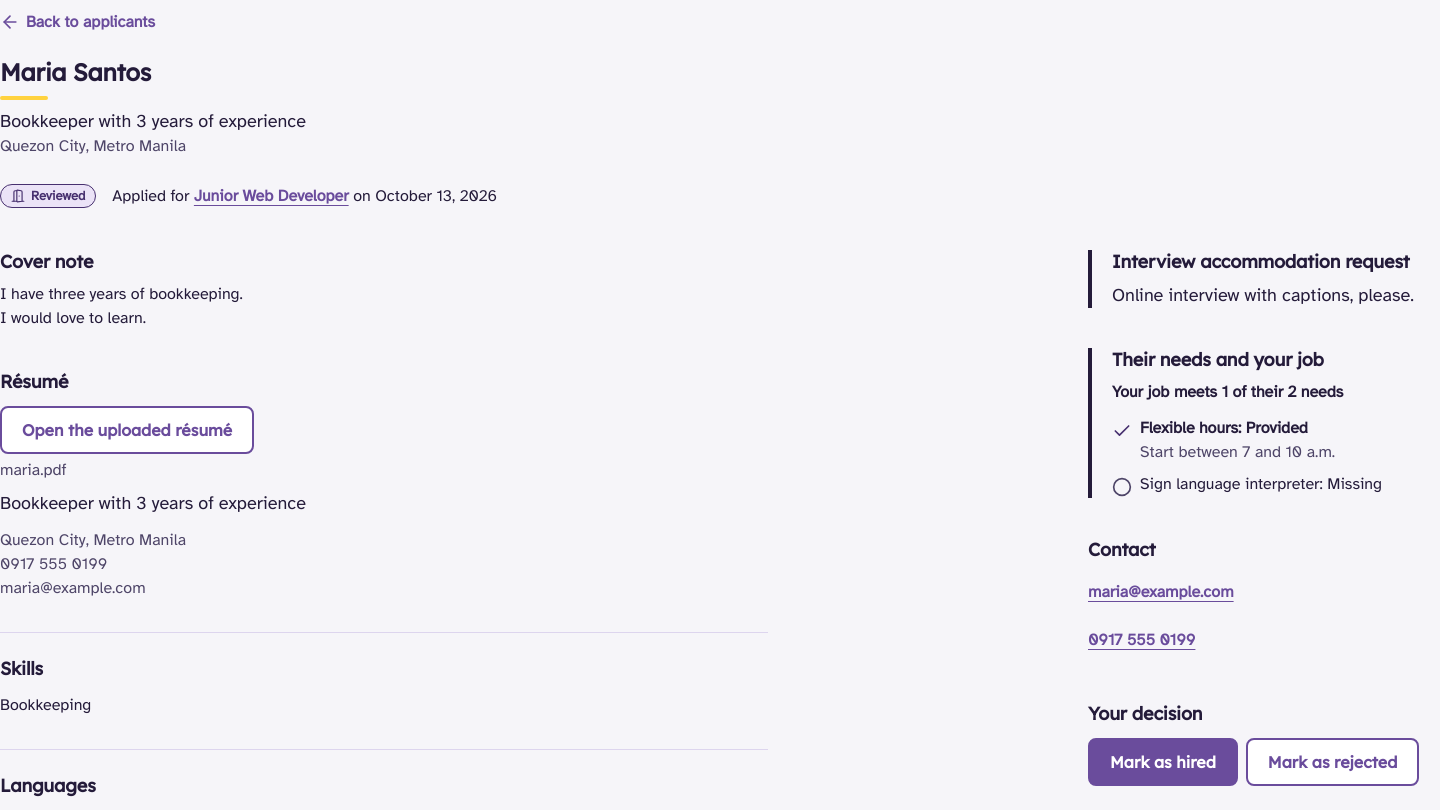
ApplicantPage › explains a decision that lost to a withdrawal, then shows it and keeps focus
Click the button "Mark as hired" at (1163, 762), box [1088,738,1238,786]
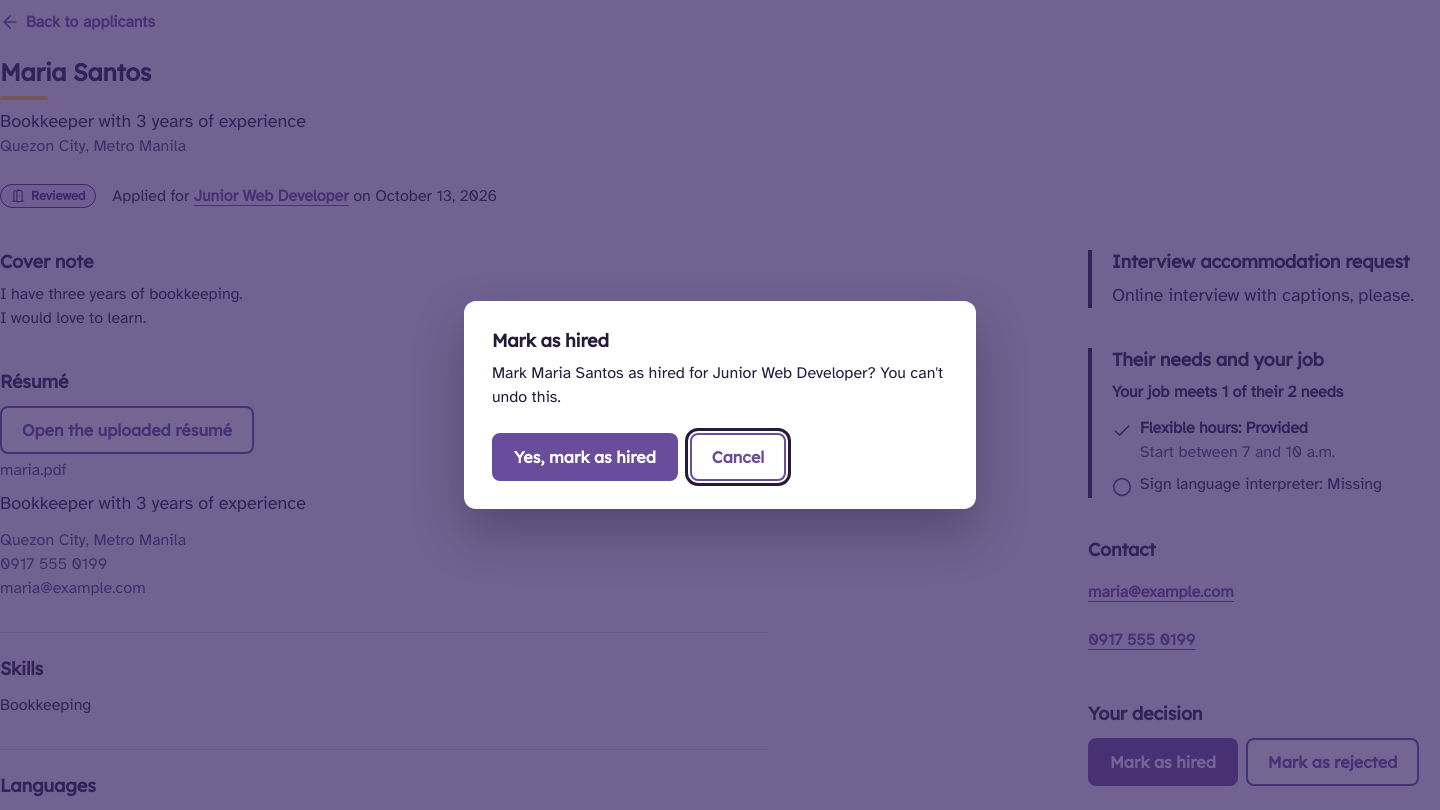
Click the button "Yes, mark as hired" at (585, 457), box [492,433,678,481]
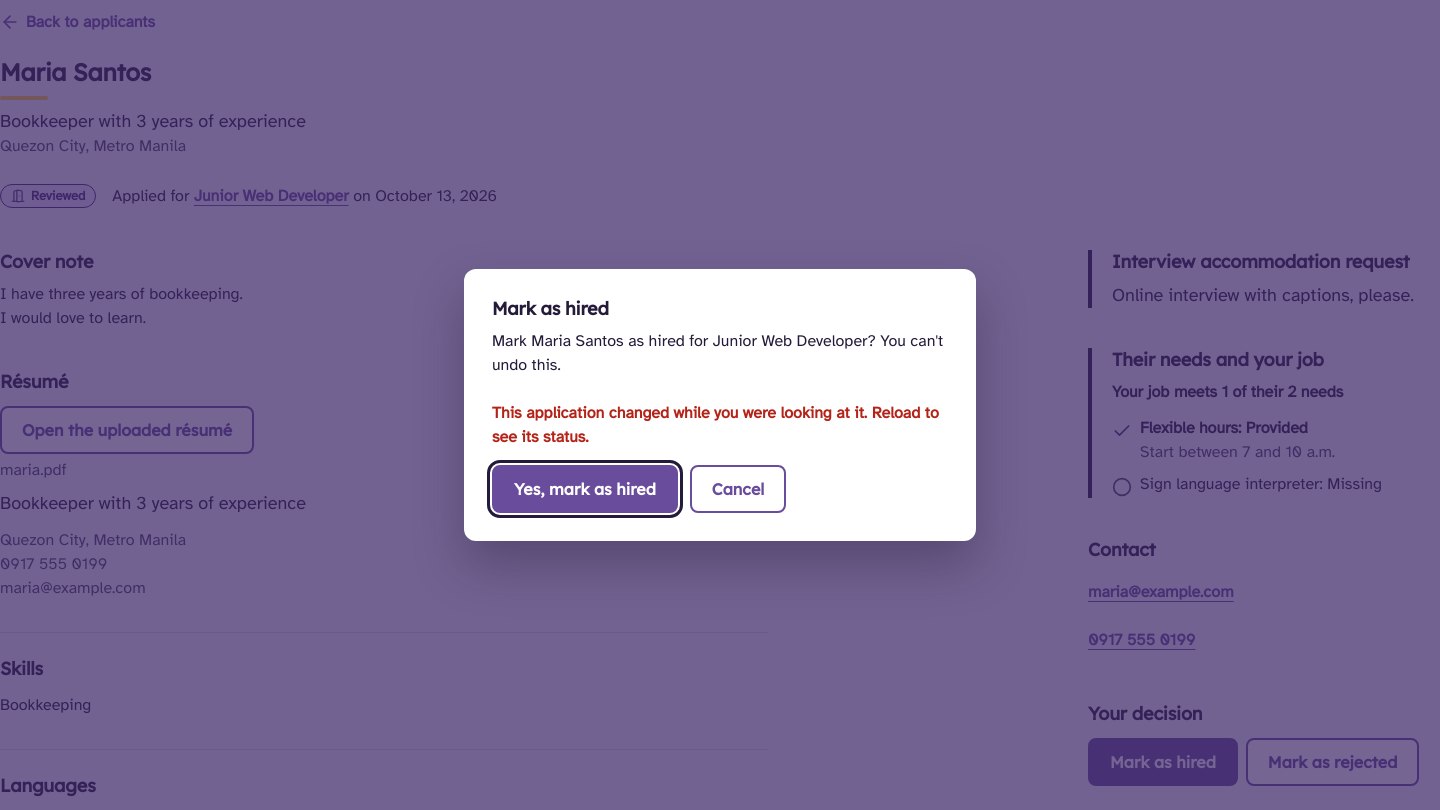
Expected: the message shows "This application changed while you were looking at it.", [492,403,939,447]
Click the button "Cancel" at (738, 489), box [690,465,786,513]
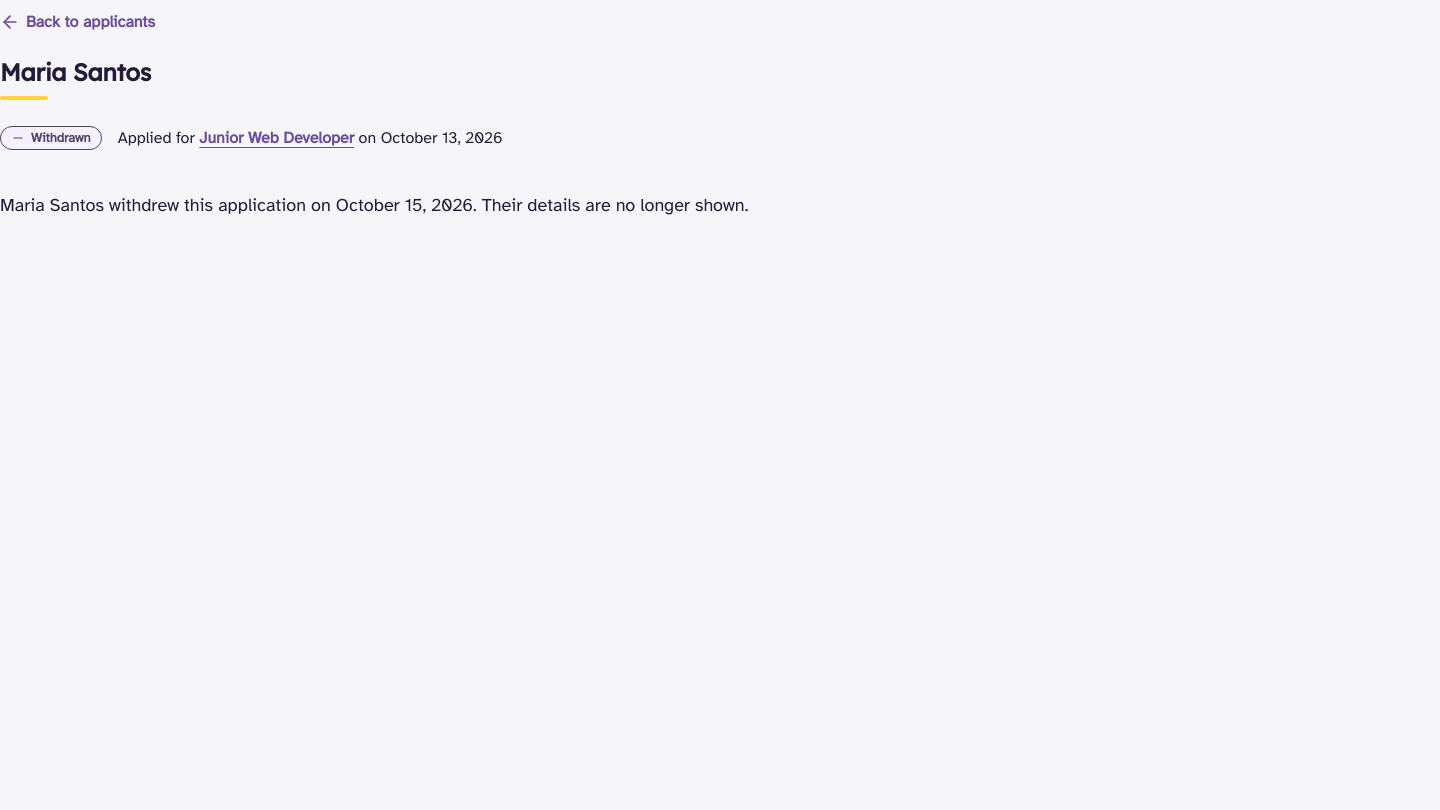
Expected: the text "Maria Santos withdrew this application" is shown, [0,194,748,216]
